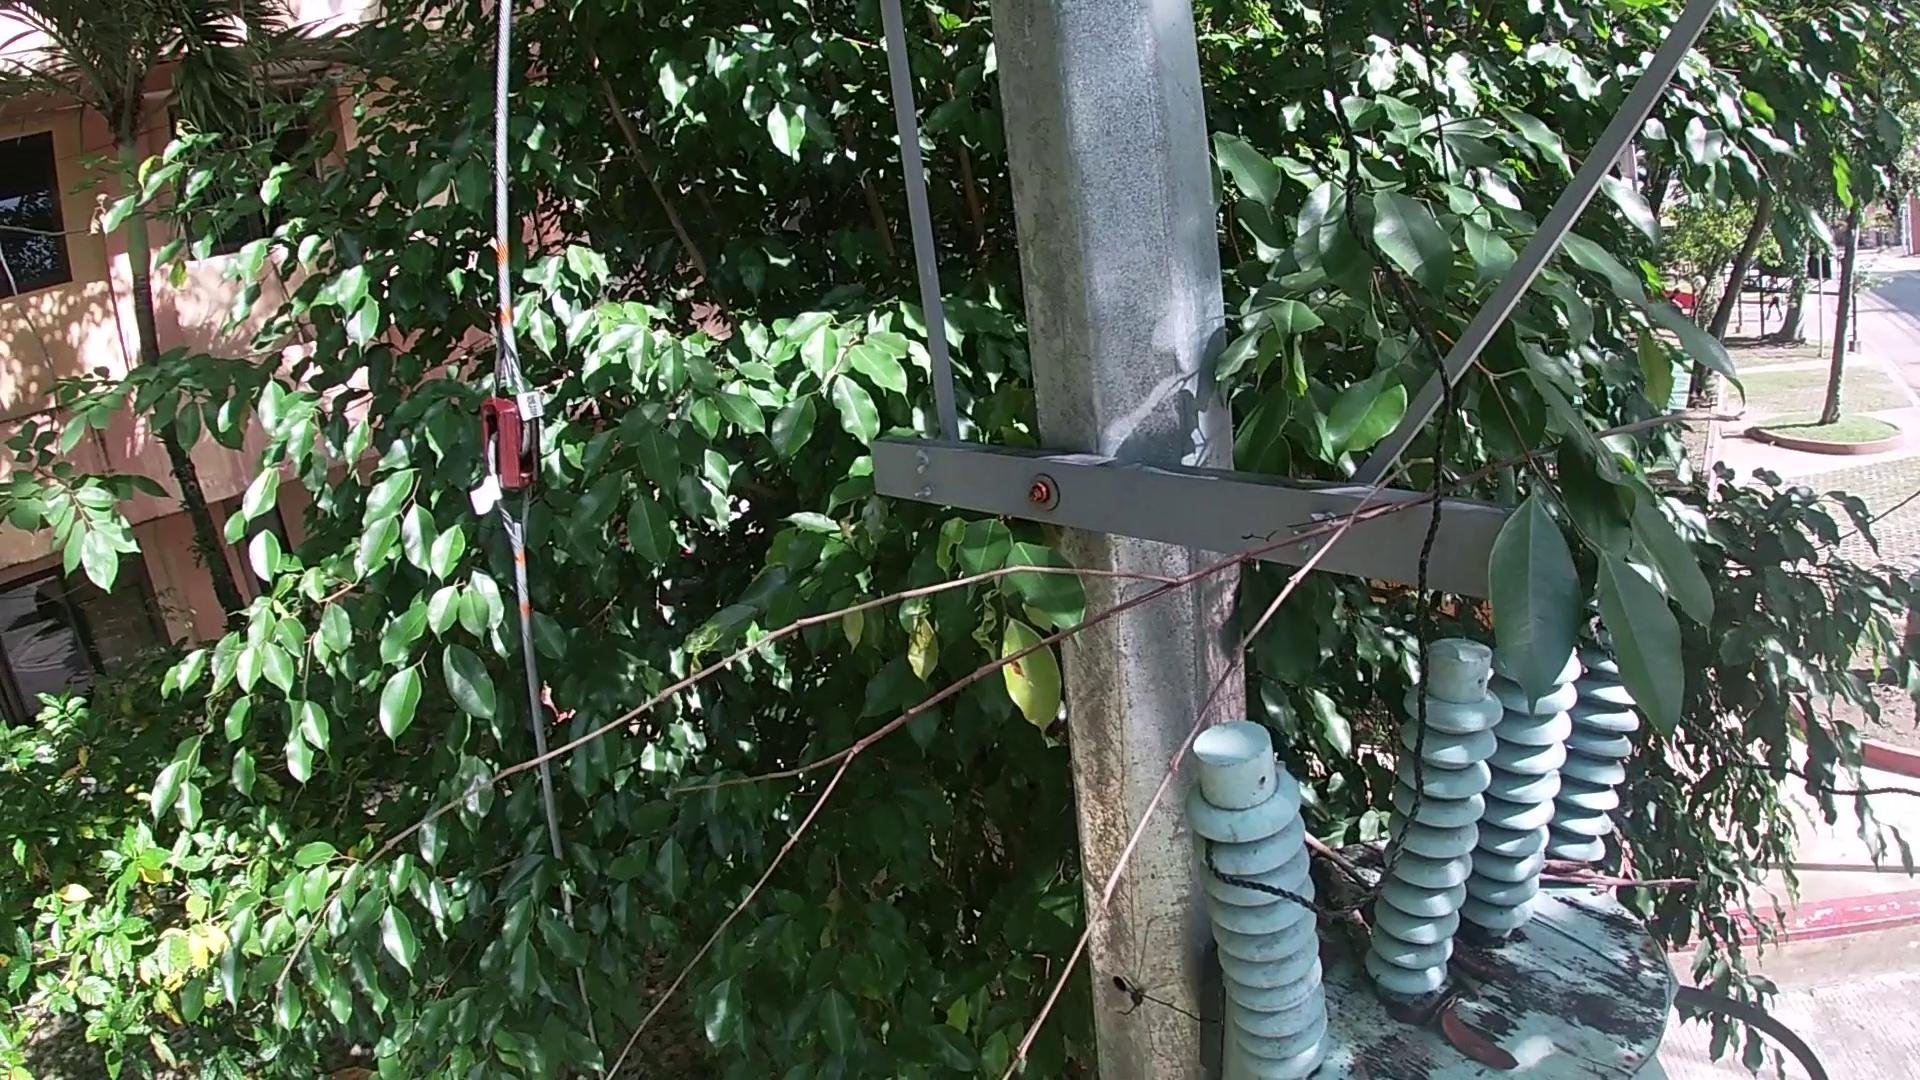leaf: (1385, 1000, 1443, 1038)
mahogany fruit: (1453, 1007, 1536, 1069), (1453, 938, 1524, 982)
tree branch: (210, 397, 1712, 1080), (1534, 924, 1672, 996), (1305, 855, 1365, 945), (1539, 847, 1692, 881), (1302, 829, 1382, 880), (1480, 977, 1578, 993), (1447, 968, 1487, 1004)
